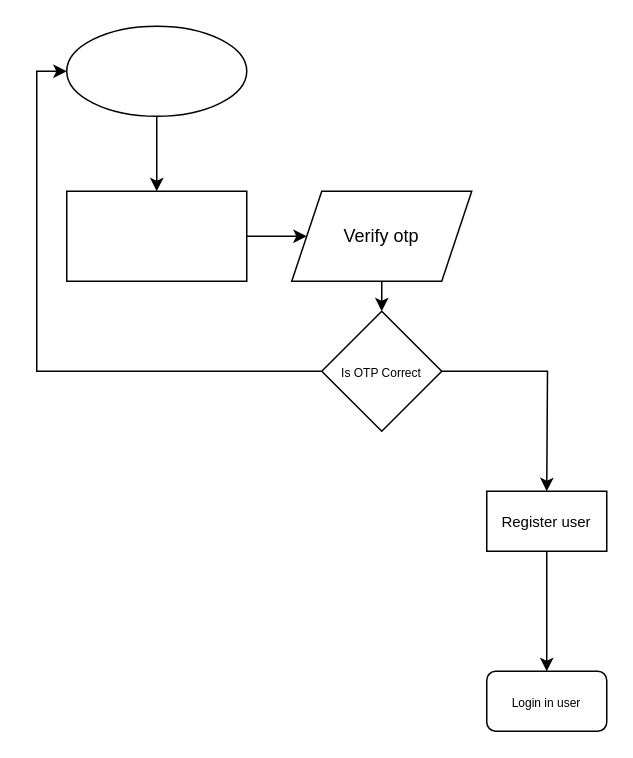
The diagram is 633 pixels wide and 758 high, and some of its shapes have lost their labels. Here are the shapes that lost their labels. From the top down, the centre of each, then its label:
At point 156,70: "User registration".
At point 156,235: "User name Mobile number".
